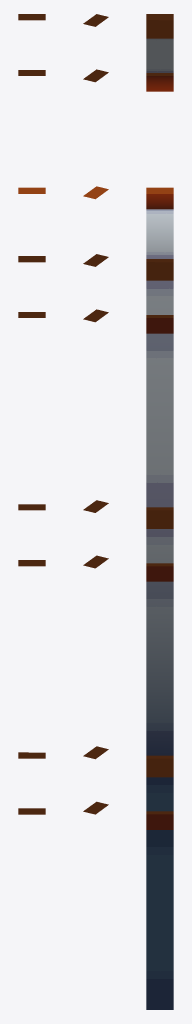
3 views of the same model, side by side, from view 1: azimuth 90°, elevation 25°; view 2: azimuth 150°, elevation 25°; view 3: azimuth 270°, elevation 25° (orthographic).
Bounding box in the file's own units: 0.5369 × 40 × 1.
Materials: 2 (2 with a texture image).
